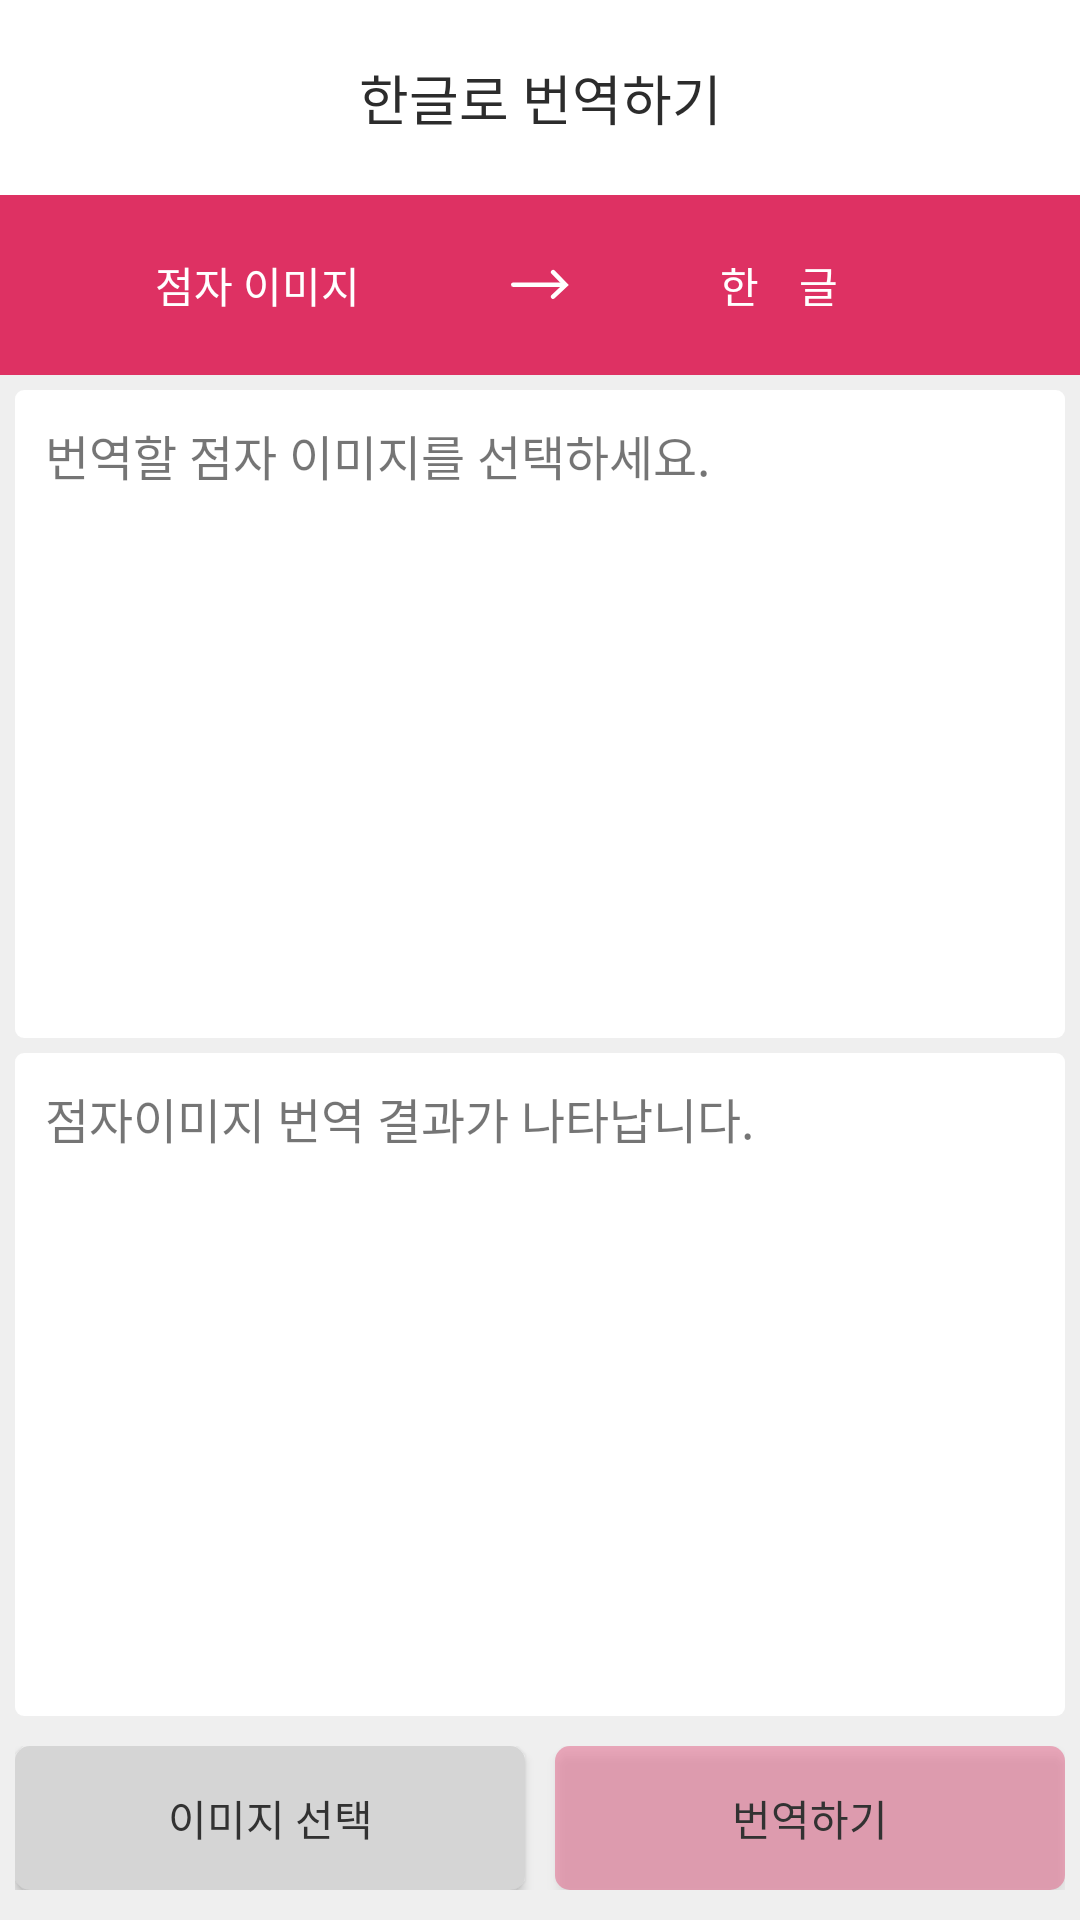

Icon bounding boxes for this 1080 x 1920 phone screenshot, format (x1, y1, x2, y2):
trans arrow: (511, 269, 569, 299)
